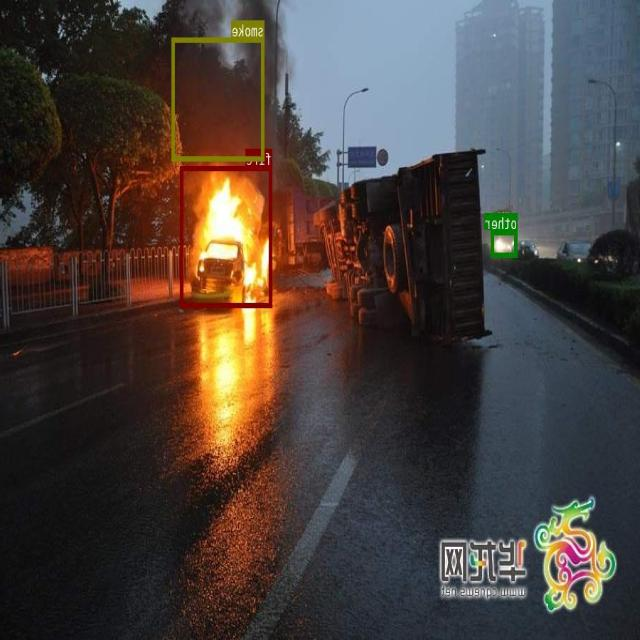fire: (181, 165, 272, 307)
other: (492, 229, 518, 256)
smoke: (173, 36, 265, 160)
